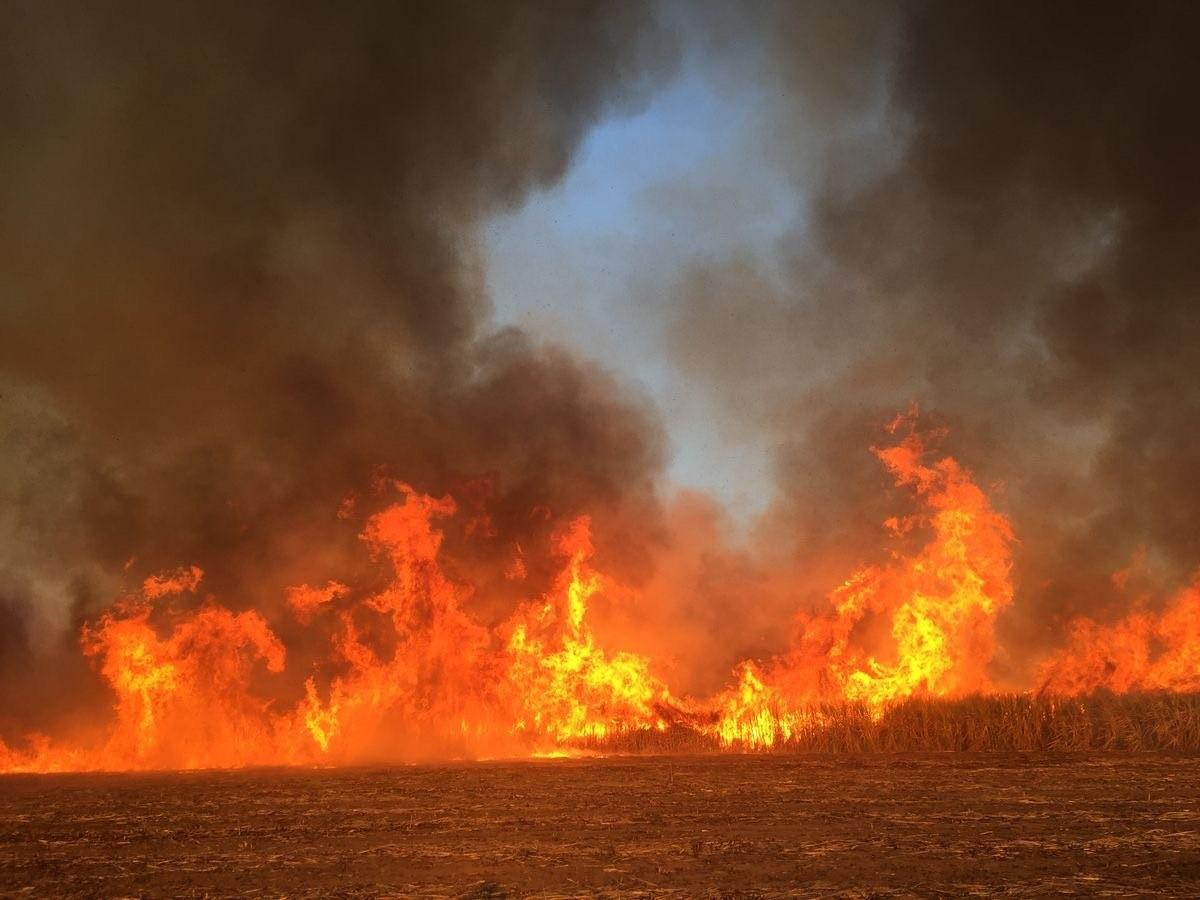fire: (39, 591, 684, 798), (804, 408, 1041, 766), (1031, 558, 1200, 718), (678, 641, 821, 828)
smoke: (0, 0, 708, 522), (725, 1, 1200, 404)
